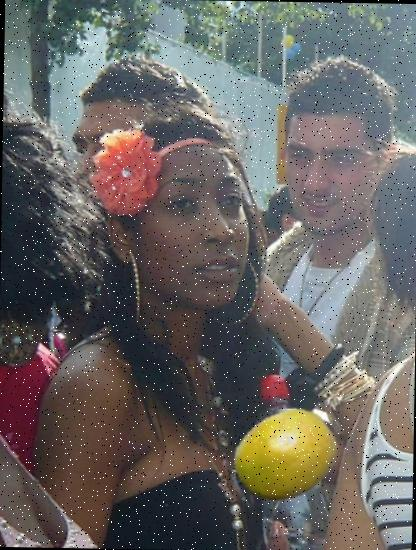Maracuja: (229, 400, 341, 512)
